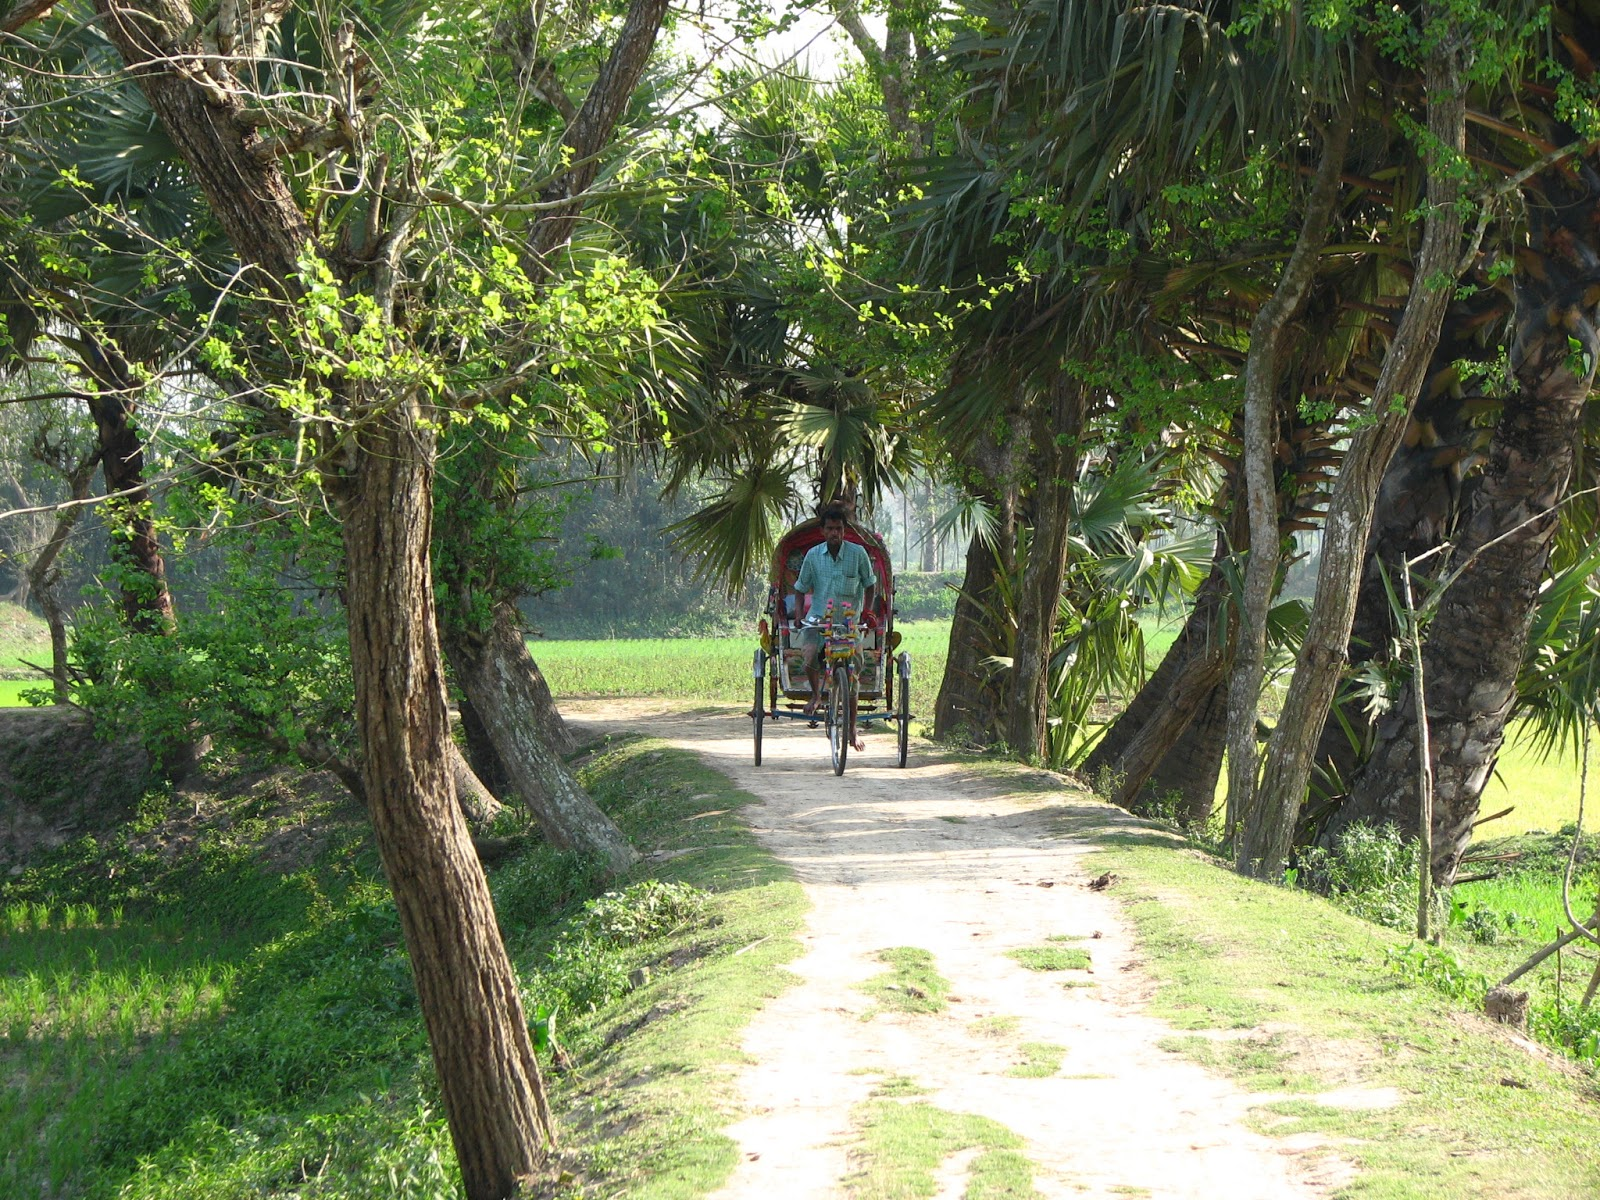Rickshaw: (774, 503, 929, 773)
